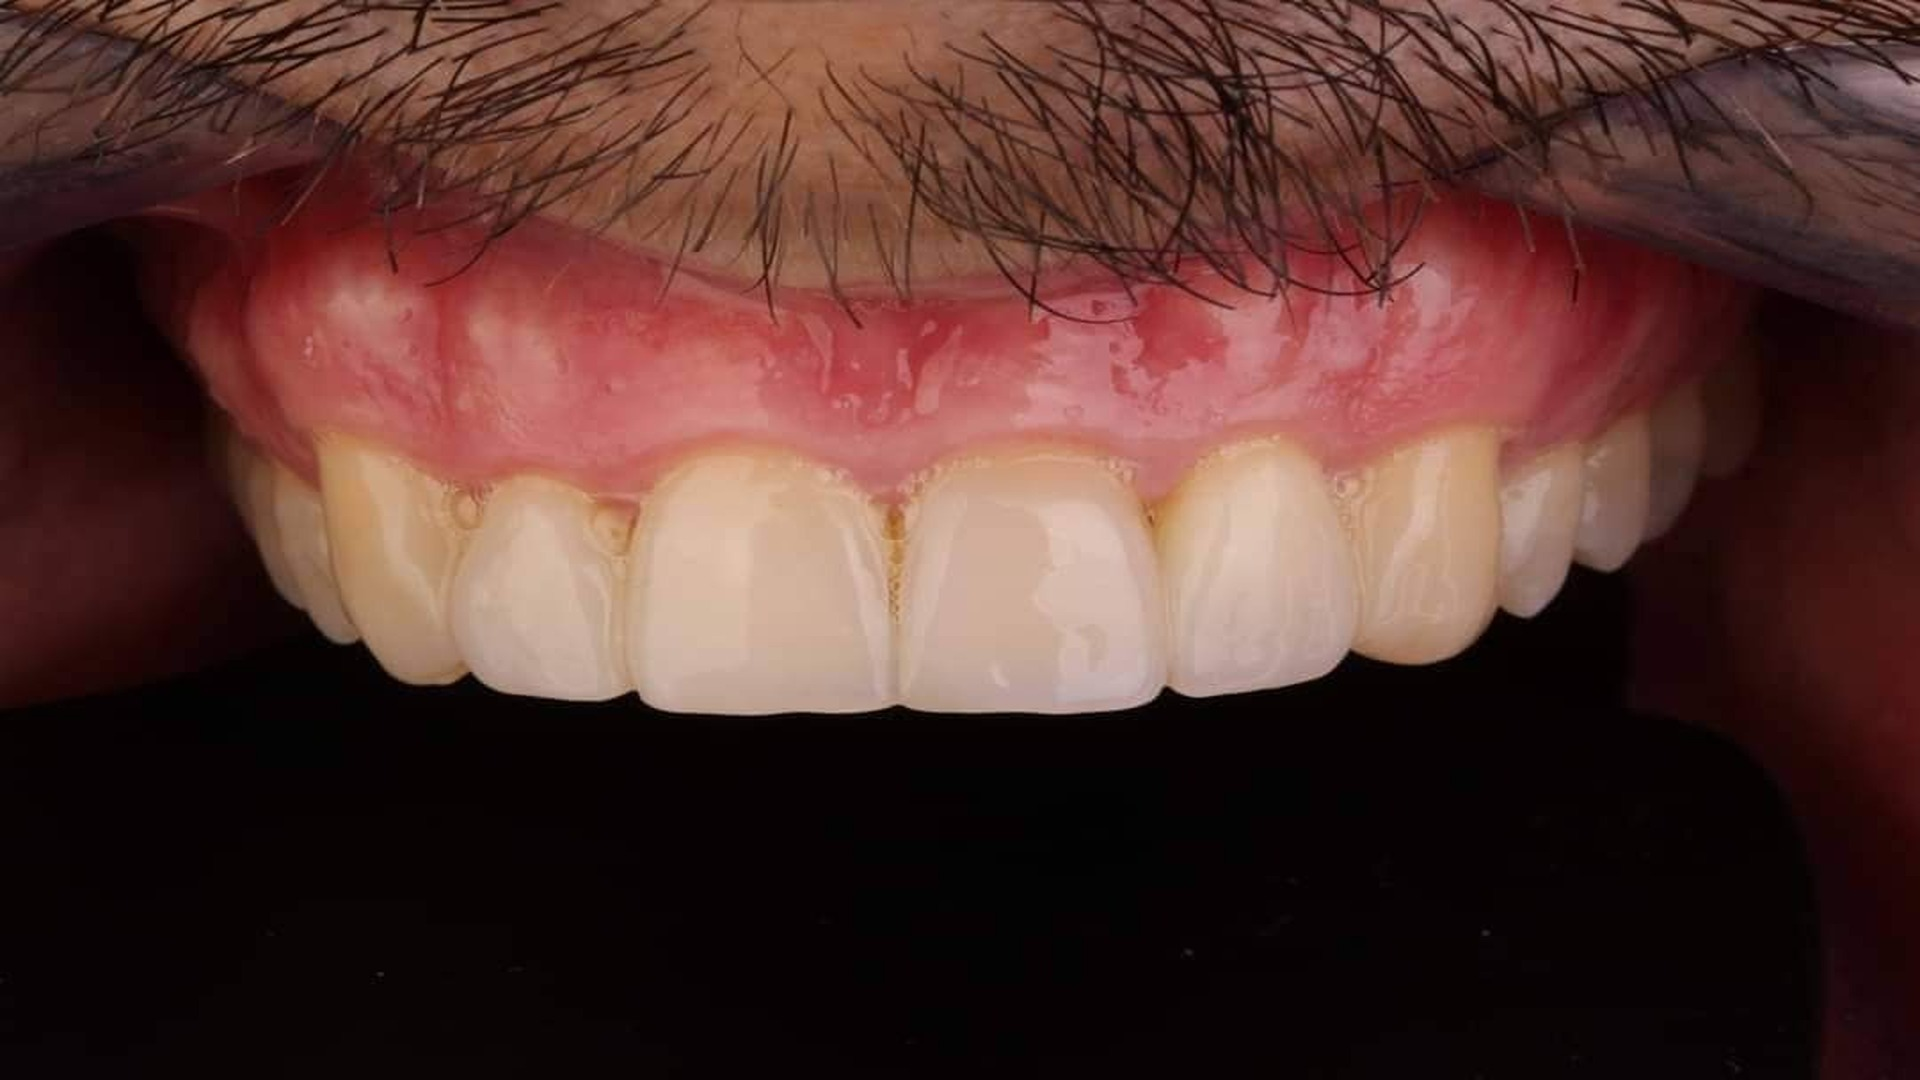tooth: (626, 448, 901, 716), (902, 448, 1165, 714), (1155, 435, 1358, 697), (313, 431, 482, 686), (450, 475, 635, 701), (1330, 426, 1501, 666), (227, 430, 360, 644), (1495, 445, 1581, 618), (1573, 410, 1650, 572)
